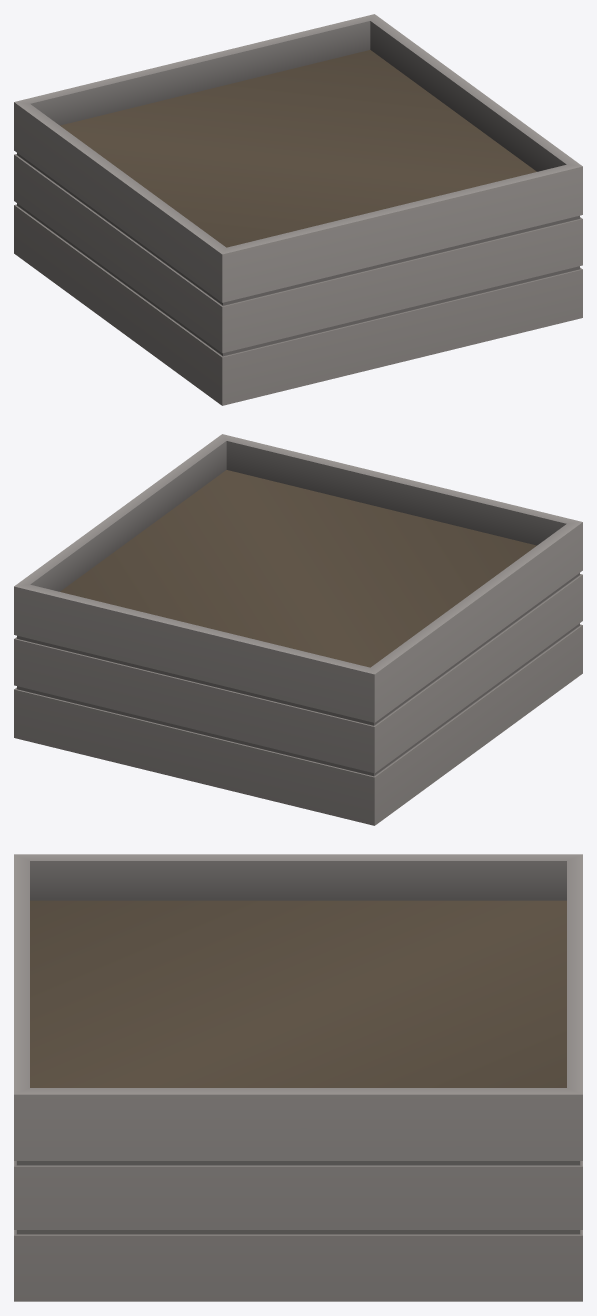
The model's file is flowerbed 2.fbx.
3 views of the same model, one above another, from view 1: azimuth 30°, elevation 25°; view 2: azimuth 150°, elevation 25°; view 3: azimuth 270°, elevation 25° (orthographic). The views are drawn at different scales.
Visible parts, largest first — view 1: Cube.647; view 2: Cube.647; view 3: Cube.647.
Part boxes in pixels (box(x1,y1,x2,y2)): Cube.647: box(14, 14, 582, 405); Cube.647: box(14, 434, 582, 825); Cube.647: box(14, 854, 582, 1301).
Size of the model in its own units: 170 by 68.32 by 170.
